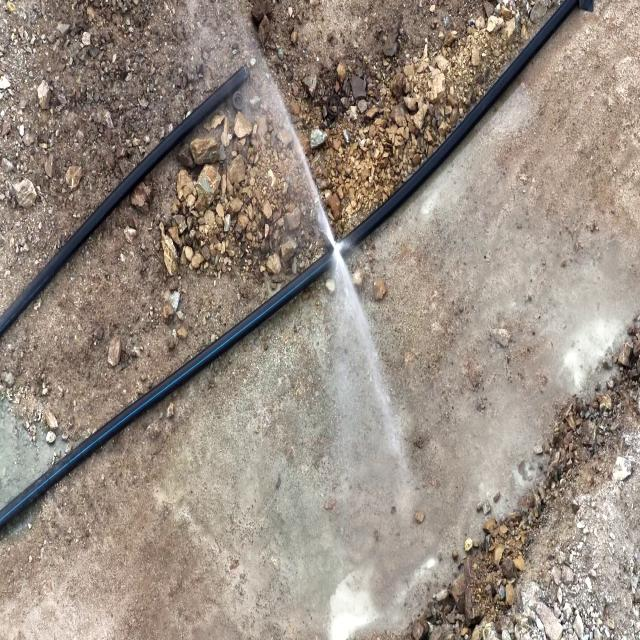leak: (243, 24, 403, 437)
